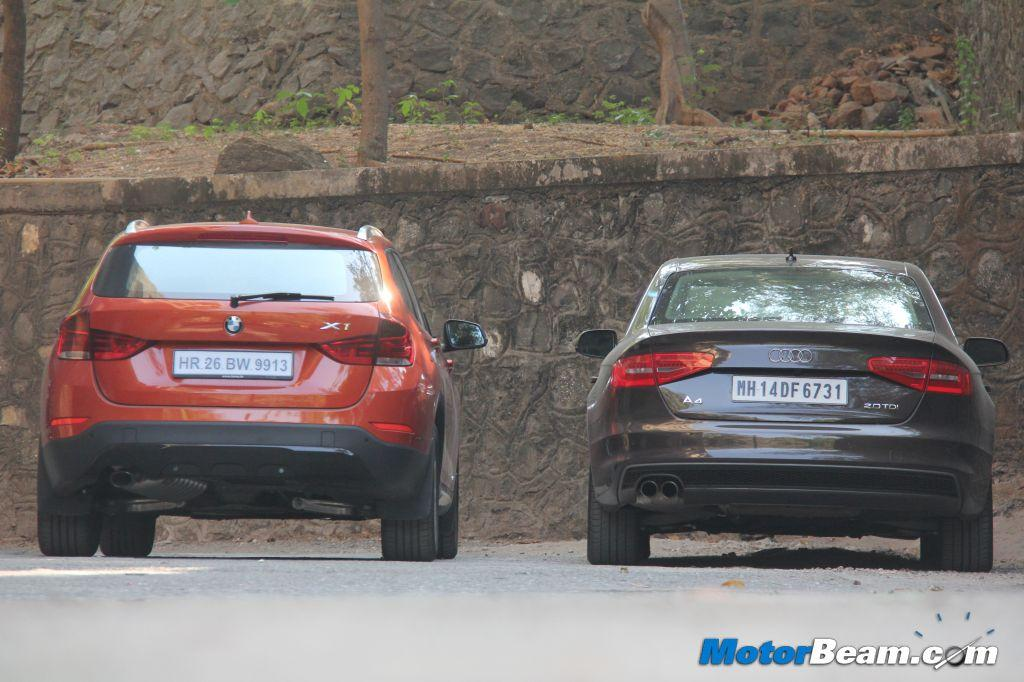car: (541, 193, 1023, 630), (16, 178, 495, 588)
